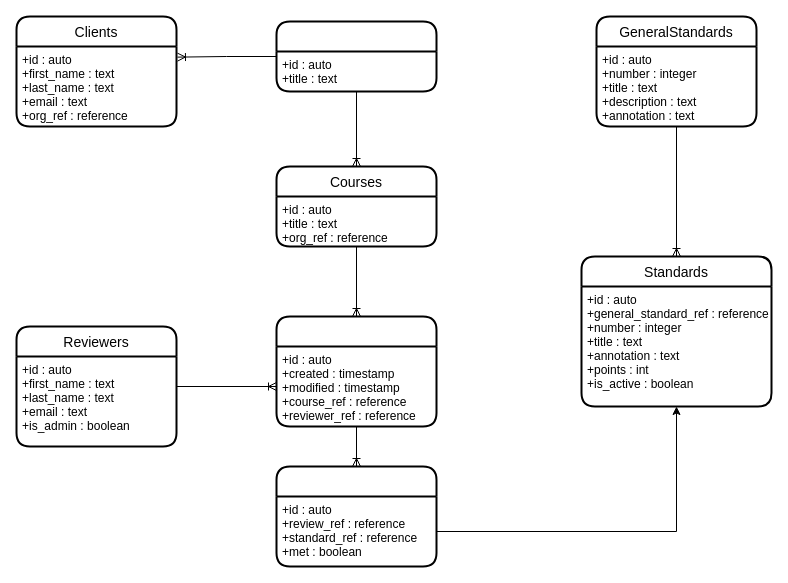
The diagram is 788 pixels wide and 583 high, and some of its shapes have lost their labels. Here are the shapes that lost their labels. From the top down, the box of each, then its label:
(275, 20, 437, 92): Organizations
(275, 315, 437, 427): Reviews
(275, 465, 437, 567): Scores
